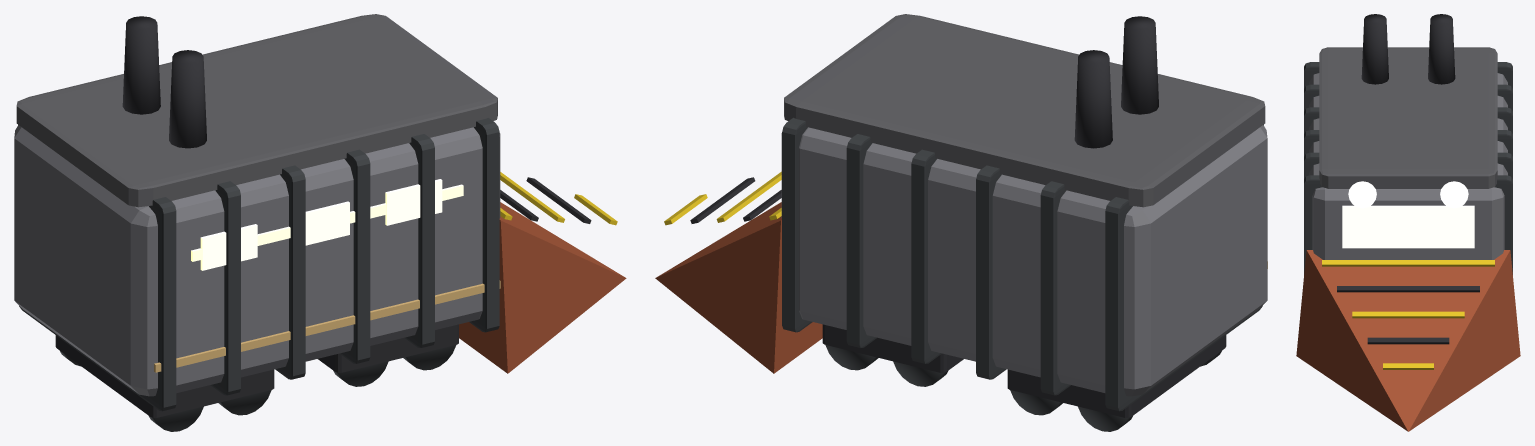
Rendered from loco.glb.
3 renders of one model, left to right at view 1: azimuth 30°, elevation 25°; view 2: azimuth 150°, elevation 25°; view 3: azimuth 270°, elevation 25°, orthographic. The views are drawn at different scales.
Visible parts, largest first — view 1: loco; view 2: loco; view 3: loco.
Boxes of the visible parts, x1=… form: loco: x1=14, y1=14, x2=626, y2=431; loco: x1=655, y1=14, x2=1267, y2=431; loco: x1=1296, y1=14, x2=1520, y2=431.
Bounding box in the file's own units: 9 × 5.45 × 4.4.
